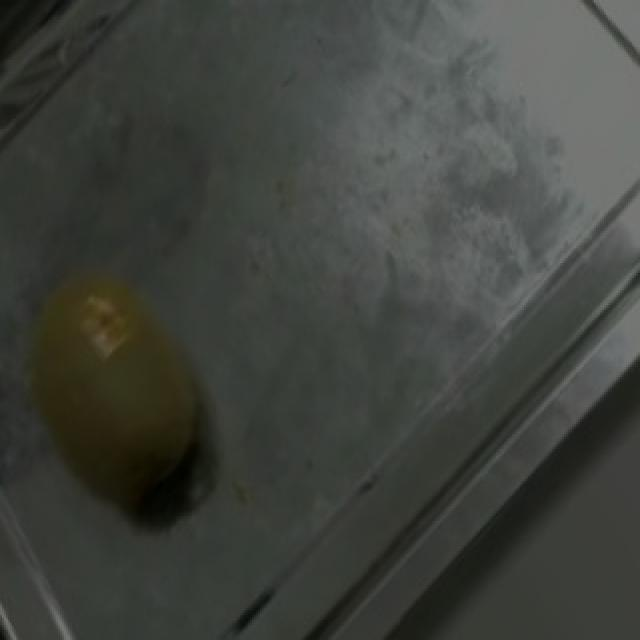Fruit: (0, 236, 252, 538)
